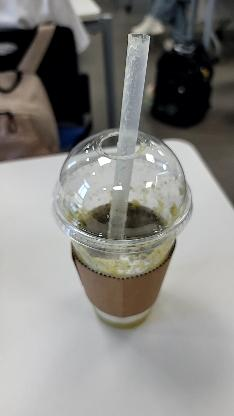Plastic Cup: (50, 129, 196, 333), (47, 126, 198, 254)
